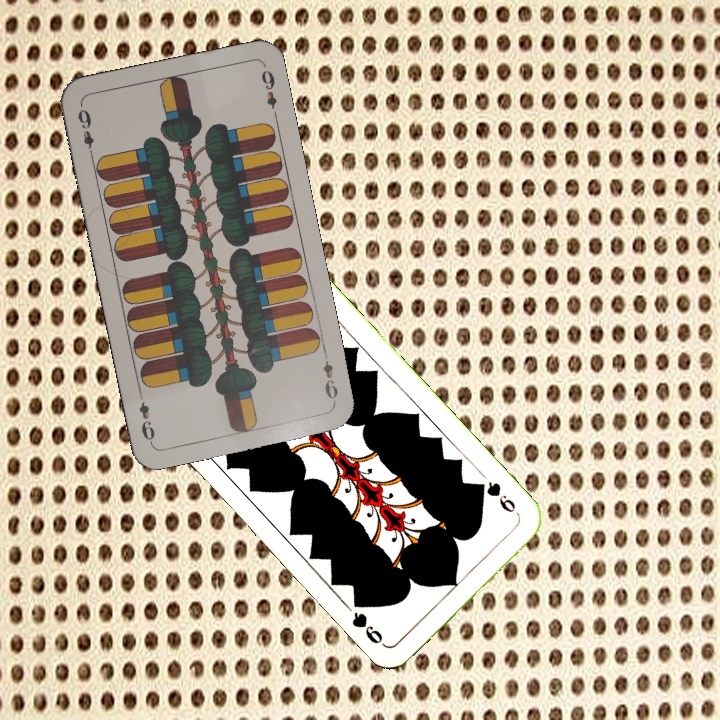E9: (74, 102, 97, 160), (319, 348, 341, 406)
G9: (473, 476, 519, 516)
